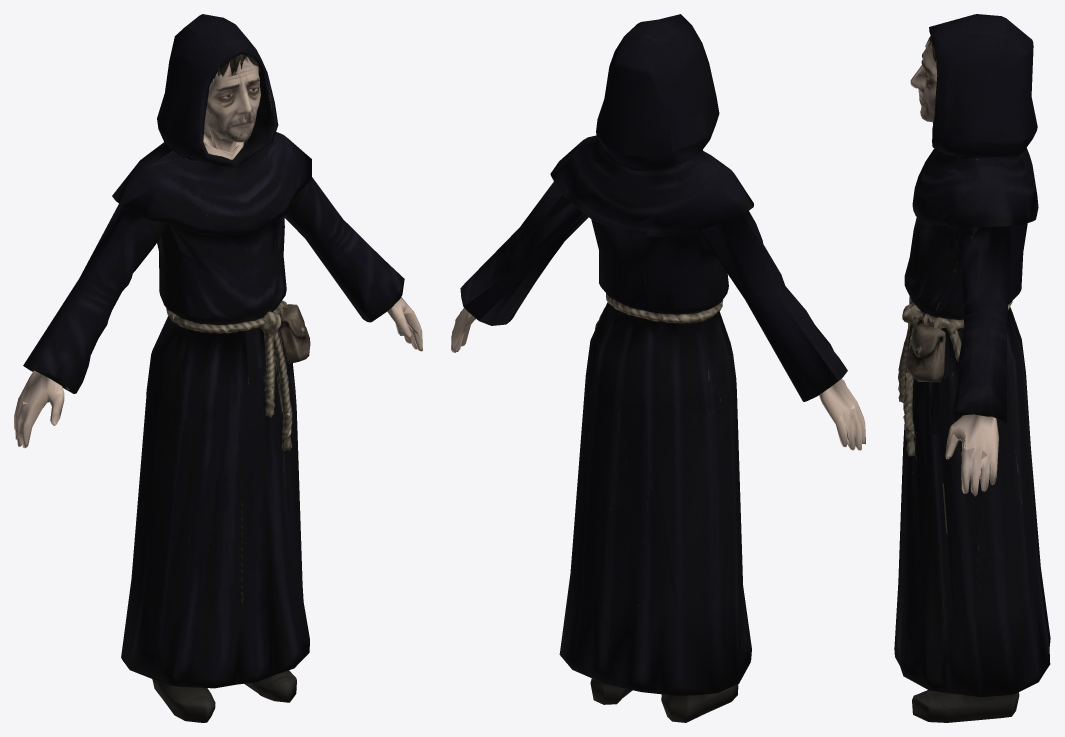
Rendered from MW_DM_Hooded.fbx.
The picture shows the model from 3 angles, left to right: view 1: azimuth 30°, elevation 25°; view 2: azimuth 150°, elevation 25°; view 3: azimuth 270°, elevation 25°; orthographic projection.
Parts seen in each view (by area): view 1: Mesh_0; view 2: Mesh_0; view 3: Mesh_0.
Boxes of the visible parts, bbox=[...] form: Mesh_0: bbox=[14, 14, 422, 722]; Mesh_0: bbox=[451, 14, 865, 722]; Mesh_0: bbox=[894, 14, 1050, 722].
Size of the model in its own units: 120 by 190 by 39.69.
1 material, 1 textured.
